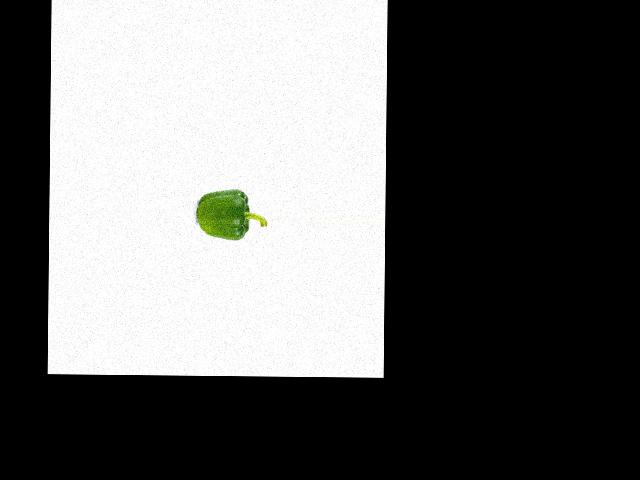bell_pepper: (196, 180, 265, 241)
